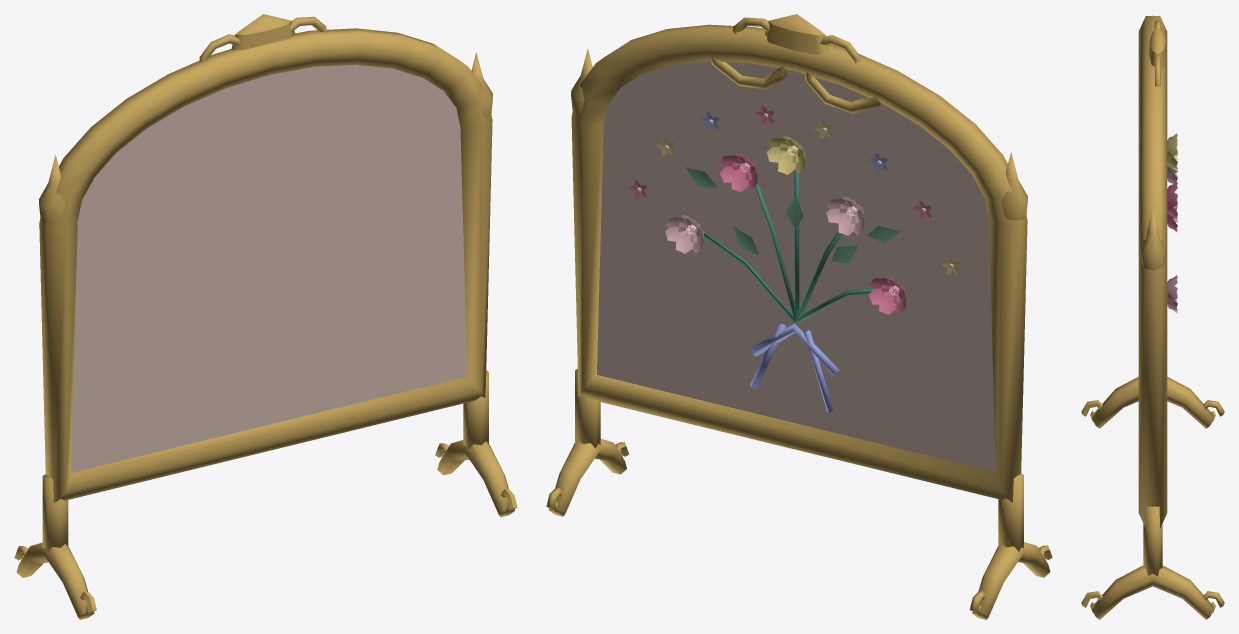
Rendered from fire_screen.glb.
3 views of the same model, side by side, from view 1: azimuth 30°, elevation 25°; view 2: azimuth 150°, elevation 25°; view 3: azimuth 270°, elevation 25° (orthographic). The views are drawn at different scales.
Visible parts, largest first — view 1: fire_screen; view 2: fire_screen; view 3: fire_screen.
Boxes of the visible parts, x1,y1,x2,y2 form: fire_screen: (14, 14, 517, 619); fire_screen: (546, 14, 1052, 619); fire_screen: (1081, 15, 1224, 619).
Size of what is drawn, in the model's own units: 0.85 by 0.95 by 0.25.
